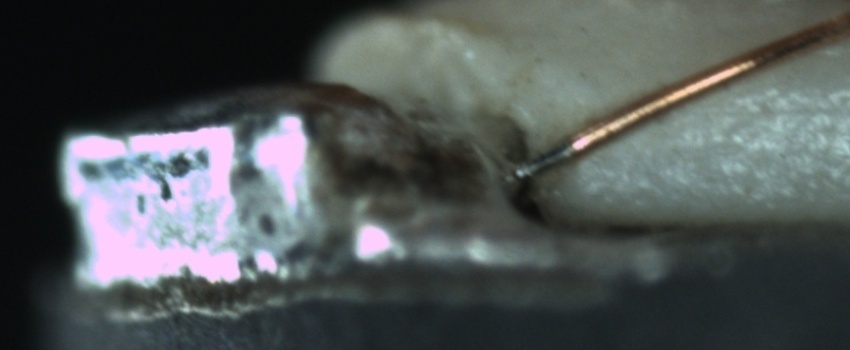DL: (702, 77, 848, 145)
TS: (514, 140, 576, 178)
TTCW: (513, 119, 615, 176)
